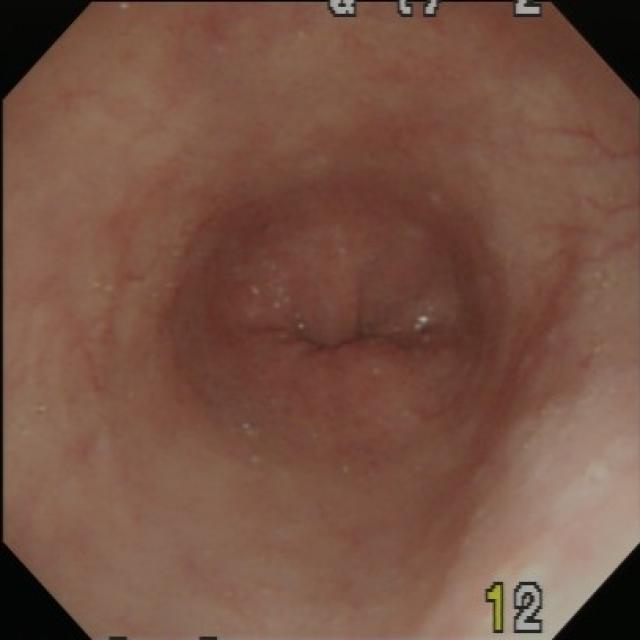I: (229, 205, 476, 427)
S: (325, 3, 545, 20), (485, 581, 547, 636)
U: (248, 271, 311, 333), (416, 314, 432, 335)
